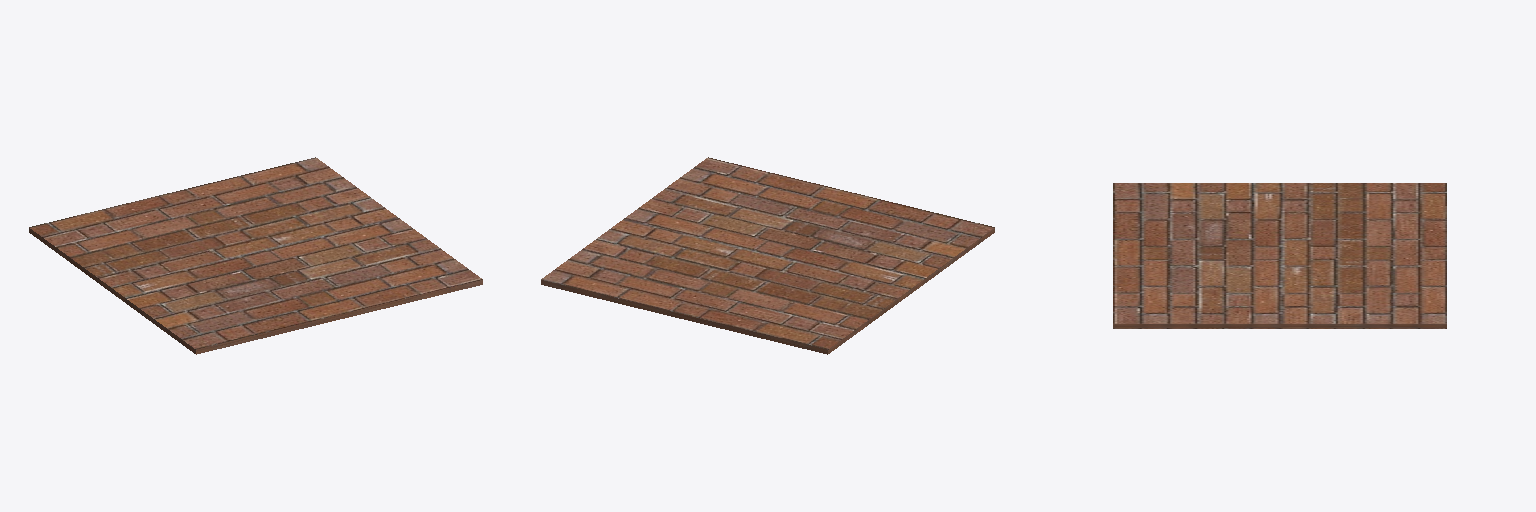
3 views of the same model, side by side, from view 1: azimuth 30°, elevation 25°; view 2: azimuth 150°, elevation 25°; view 3: azimuth 270°, elevation 25° (orthographic).
Visible parts, largest first — view 1: Box004; view 2: Box004; view 3: Box004.
Part boxes in pixels (x1,y1,x2,y2): Box004: (29, 157, 482, 354); Box004: (541, 157, 994, 354); Box004: (1113, 183, 1446, 328).
Size of the model in its own units: 1500 by 25 by 1513.
1 materials, 1 textured.